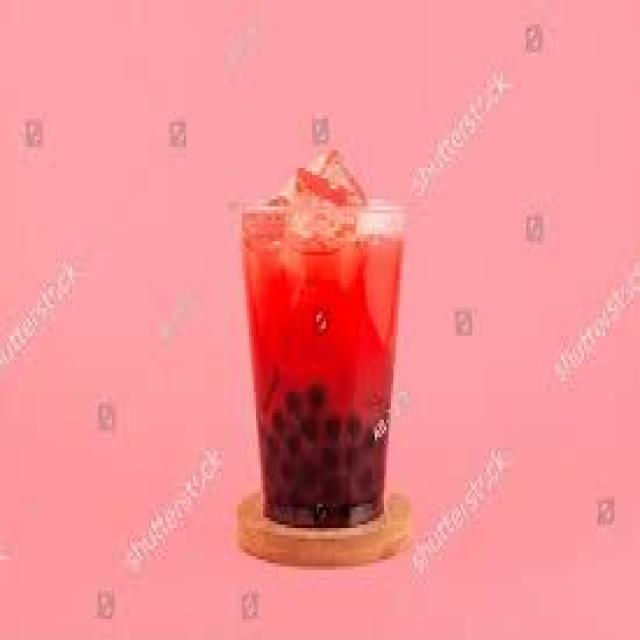bottle: (246, 209, 403, 527)
